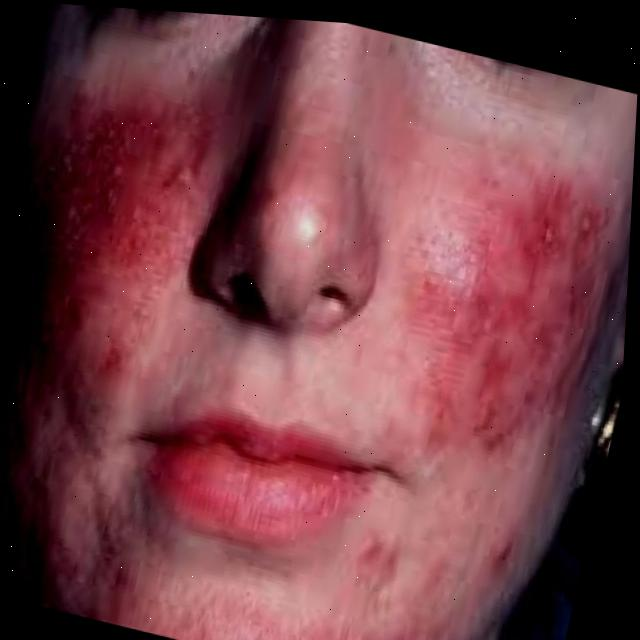Rosacea: (0, 45, 240, 512), (379, 139, 634, 490), (34, 491, 422, 640)
